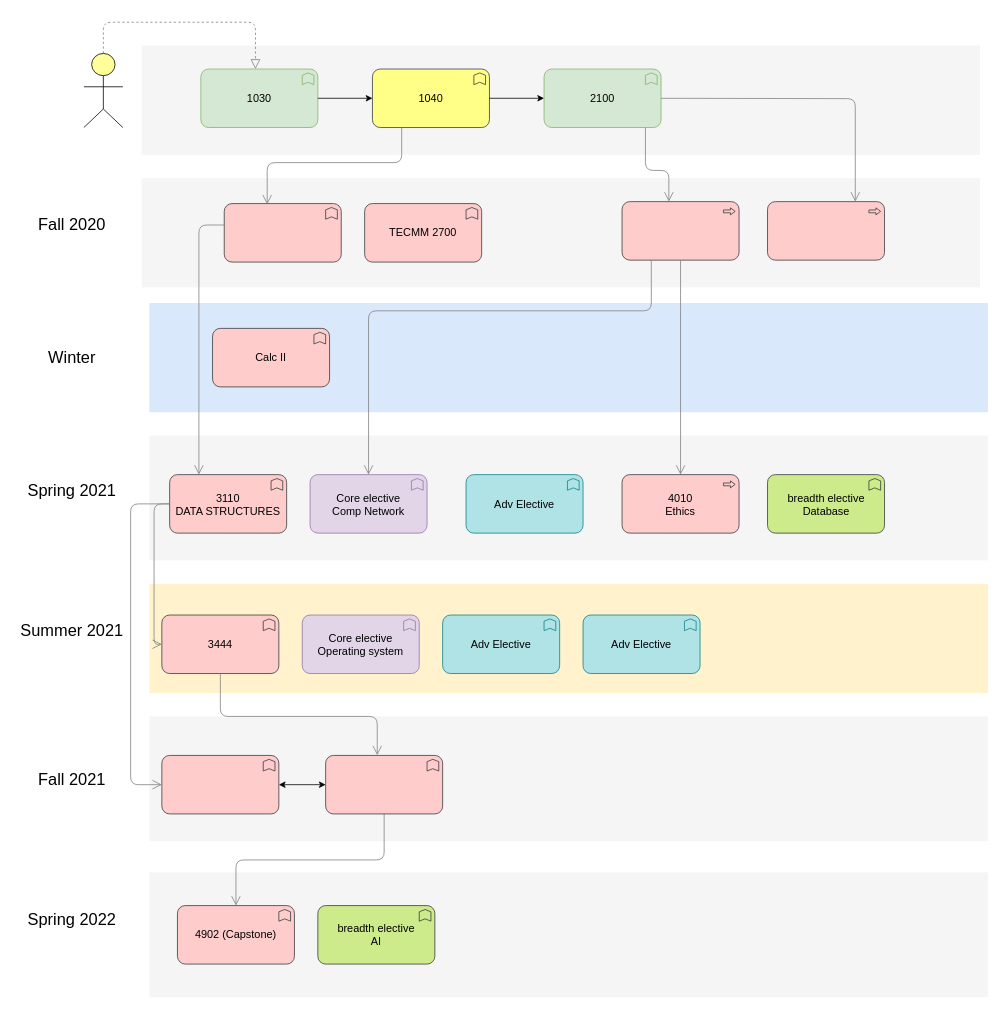
Image size: 1001x1011. Some labels were removed from this diagram. Here are the shapes that lost their labels. From the top down, the centre of each, then its label:
At point (282, 232): "2110 F of Data Structure".
At point (680, 230): "3600 Prin of Sys Program".
At point (826, 230): "2610 Assembly".
At point (220, 784): "4110 Algorithms".
At point (384, 784): "4901 (Capstone)".
